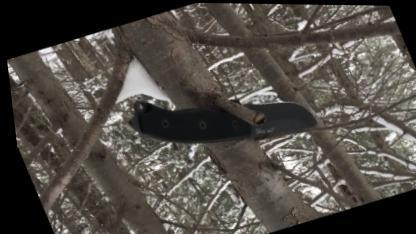knife: (178, 68, 326, 164)
